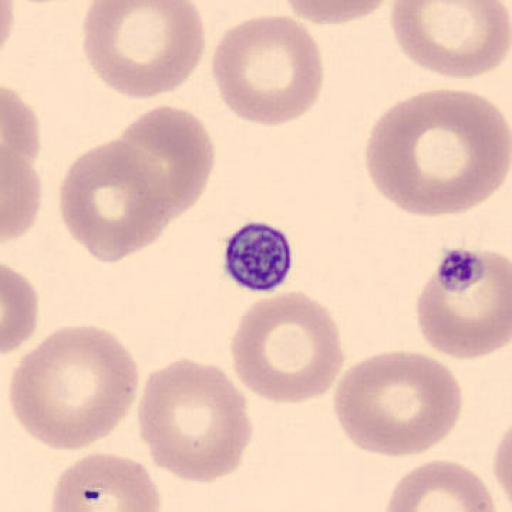Platelet: (218, 219, 296, 294)
RBC: (365, 87, 511, 219), (8, 324, 140, 452), (137, 357, 253, 486), (331, 348, 464, 460), (58, 138, 172, 264), (229, 290, 346, 405), (210, 14, 324, 128), (80, 1, 207, 101), (117, 104, 216, 216), (415, 248, 511, 360), (389, 0, 512, 80), (0, 84, 44, 246), (48, 451, 162, 512), (382, 458, 498, 512), (2, 147, 42, 245), (2, 83, 41, 174), (2, 262, 38, 357), (281, 0, 396, 25), (490, 422, 512, 511), (493, 430, 511, 507), (0, 0, 18, 55)
